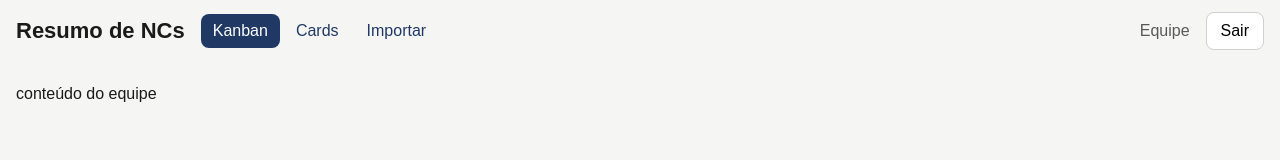
it: <Moldura/> › se sair falhar, avisa e continua na página
Click the button "Sair" at point(1235, 31), box x1=1206 y1=12 x2=1264 y2=50
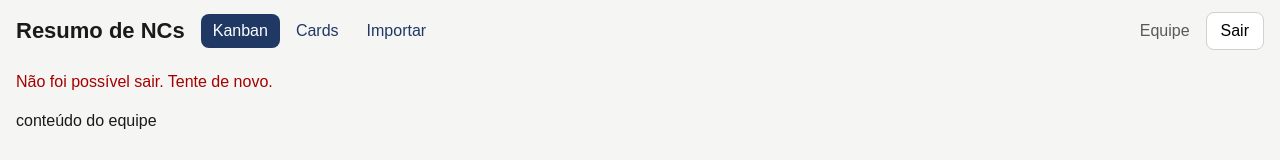
expect the text "conteúdo do equipe" is shown: met, box x1=16 y1=112 x2=157 y2=129
expect the message shows "sair": met, box x1=16 y1=73 x2=273 y2=90
